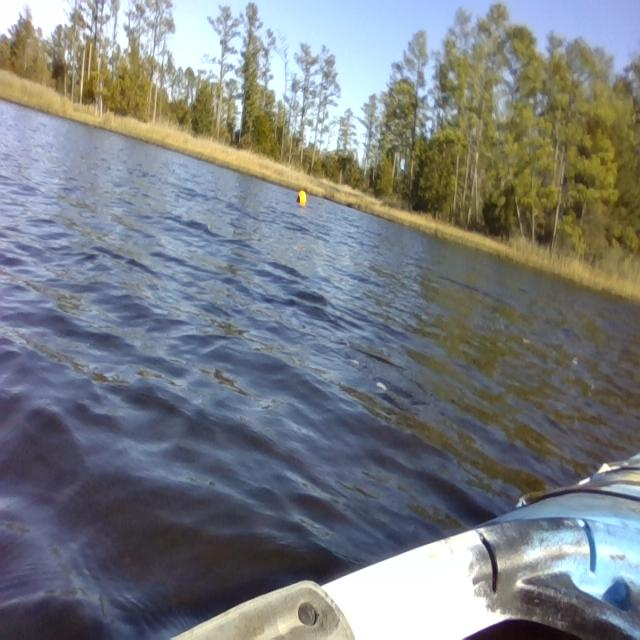Buoy: (294, 187, 309, 210)
